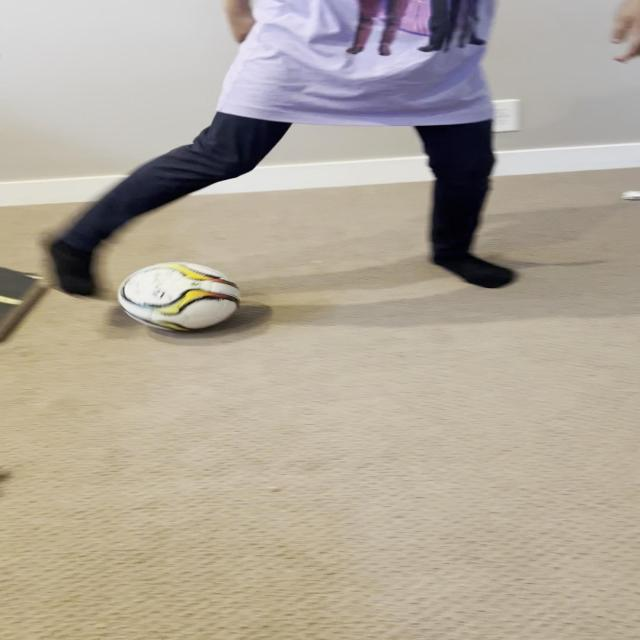Soccer Ball: (117, 262, 242, 332)
